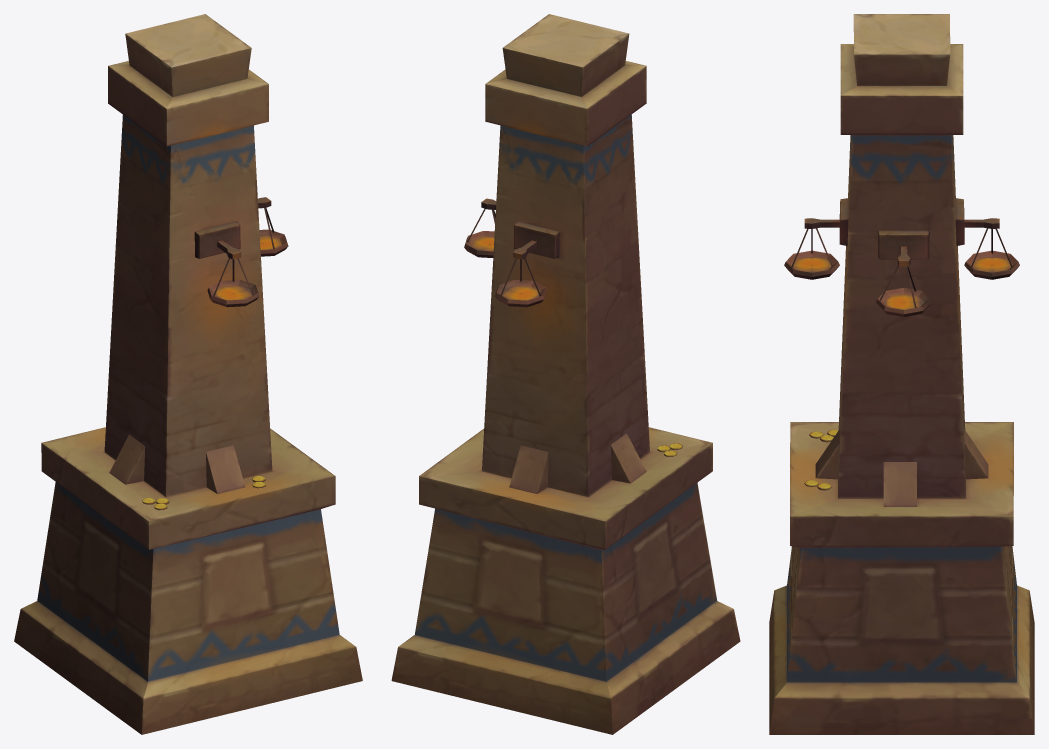
File: JZT_baozang2.FBX
3 views of the same model, side by side, from view 1: azimuth 30°, elevation 25°; view 2: azimuth 150°, elevation 25°; view 3: azimuth 270°, elevation 25° (orthographic). The views are drawn at different scales.
Visible parts, largest first — view 1: JZT_baozang2; view 2: JZT_baozang2; view 3: JZT_baozang2.
Part boxes in pixels (left/top/right/bottom): JZT_baozang2: left=14, top=14, right=362, bottom=734; JZT_baozang2: left=391, top=14, right=740, bottom=734; JZT_baozang2: left=769, top=14, right=1034, bottom=734.
Size of the model in its own units: 409 by 1097 by 409.
